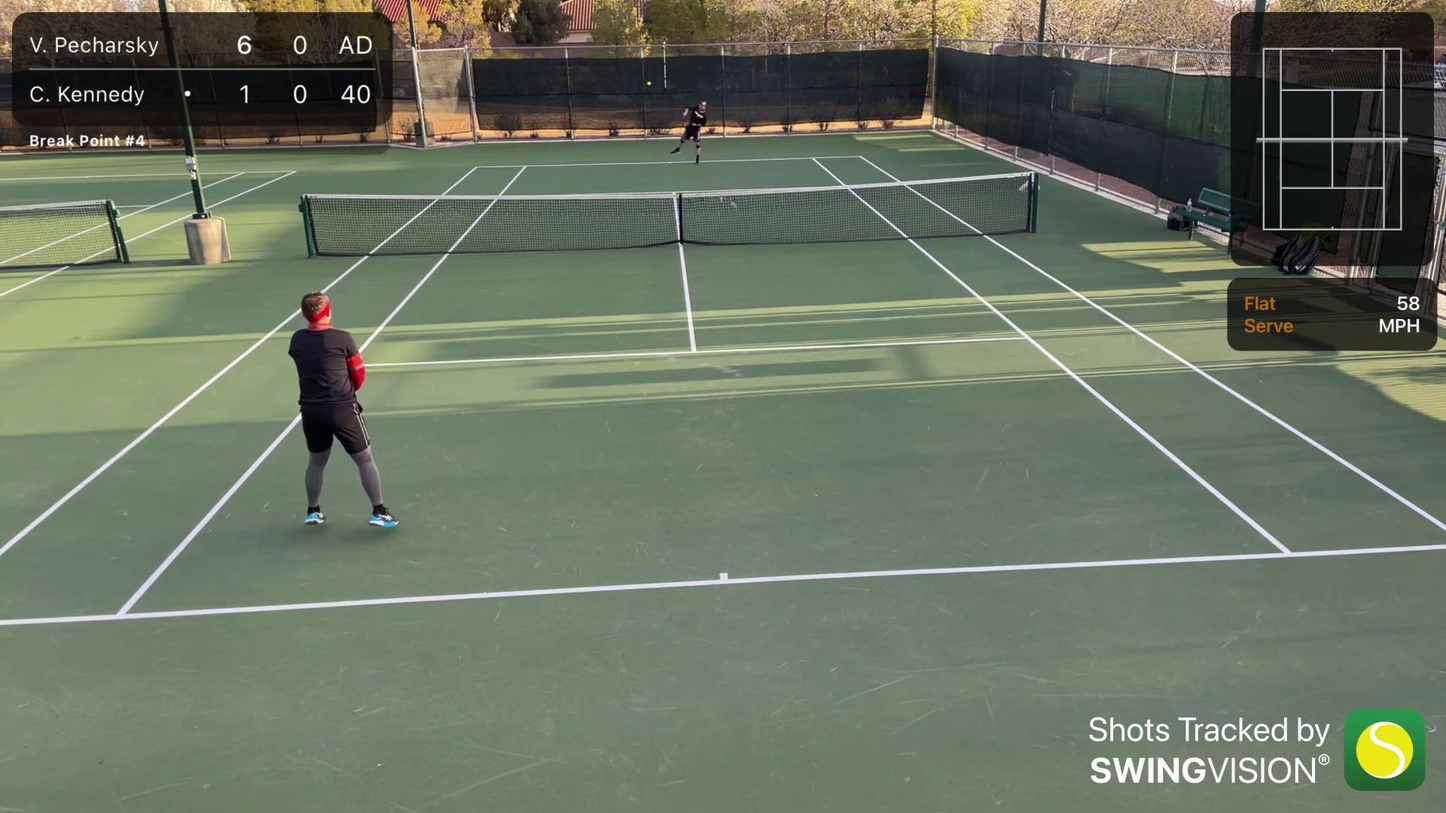ball: (645, 81, 652, 87)
